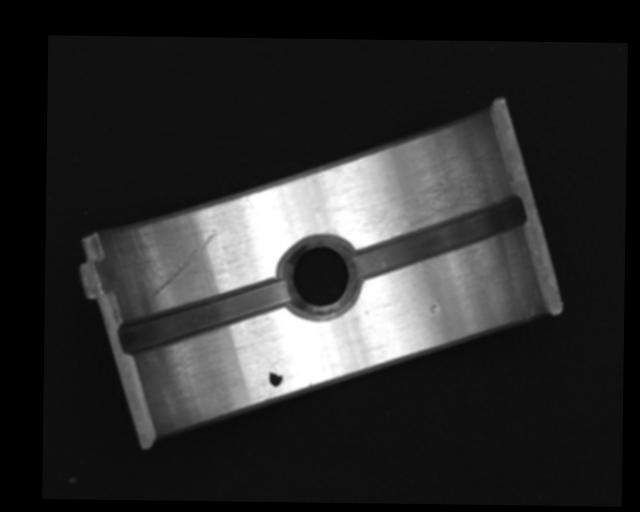blot: (268, 366, 283, 388)
bruise: (428, 303, 439, 314)
gap: (353, 195, 523, 281), (118, 277, 289, 357)
hole: (282, 237, 358, 321)
nick: (150, 227, 217, 298)
scratch: (358, 147, 501, 242)
